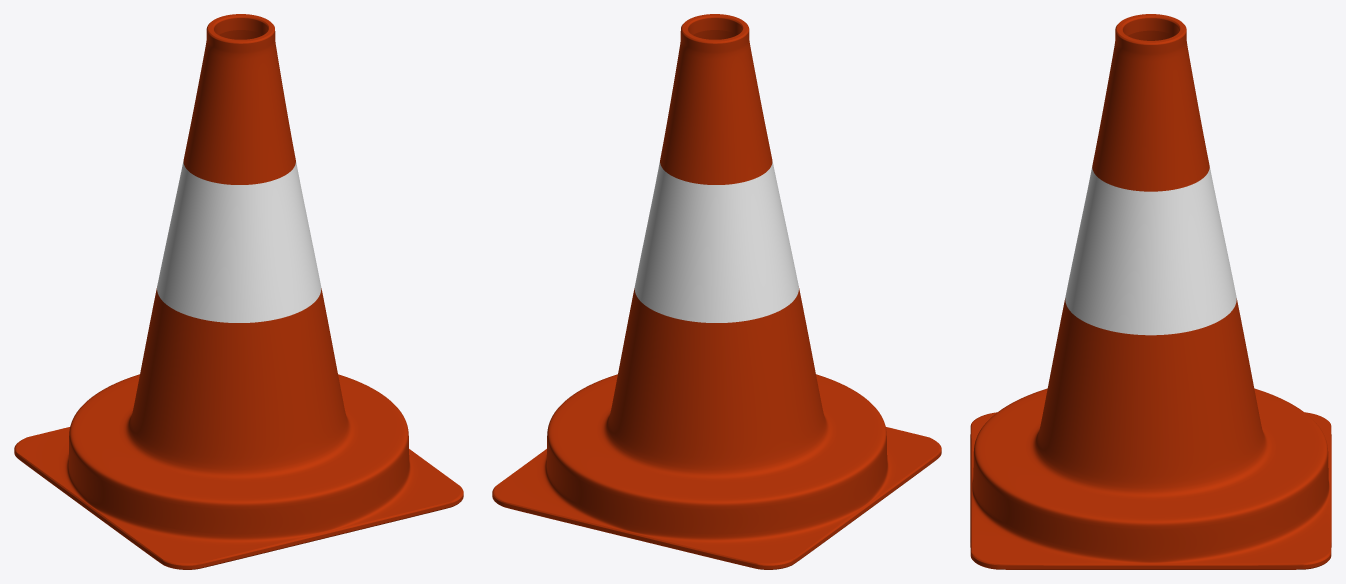
Rendered from orange_cone.fbx.
3 views of the same model, side by side, from view 1: azimuth 30°, elevation 25°; view 2: azimuth 150°, elevation 25°; view 3: azimuth 270°, elevation 25° (orthographic). The views are drawn at different scales.
Parts seen in each view (by area): view 1: Cono; view 2: Cono; view 3: Cono.
Part boxes in pixels (box(x1,y1,x2,y2)): Cono: box(14, 14, 463, 569); Cono: box(492, 14, 941, 569); Cono: box(970, 14, 1331, 569).
Size of the model in its own units: 22.8 by 32.5 by 22.8.
